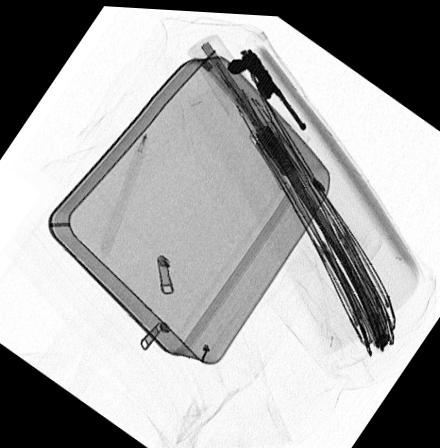Gun: (224, 44, 308, 126)
